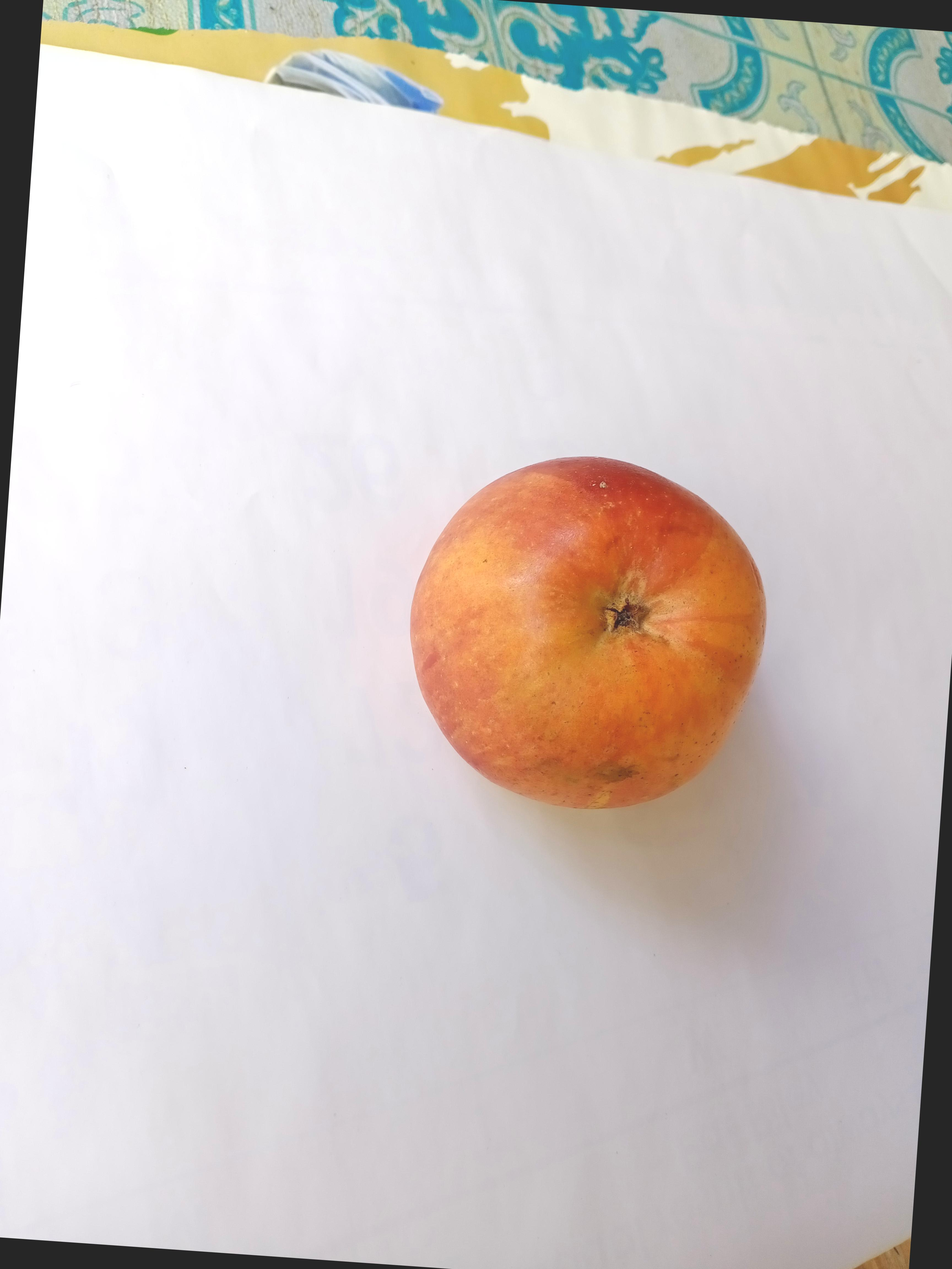Apple Ripe: (448, 389, 869, 812)
